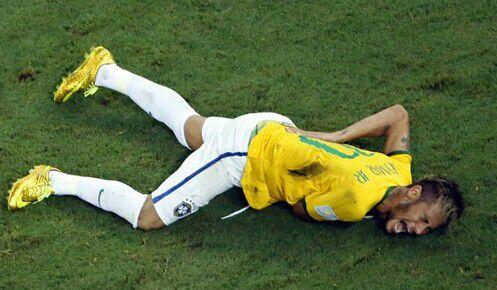fall: (16, 27, 483, 257)
